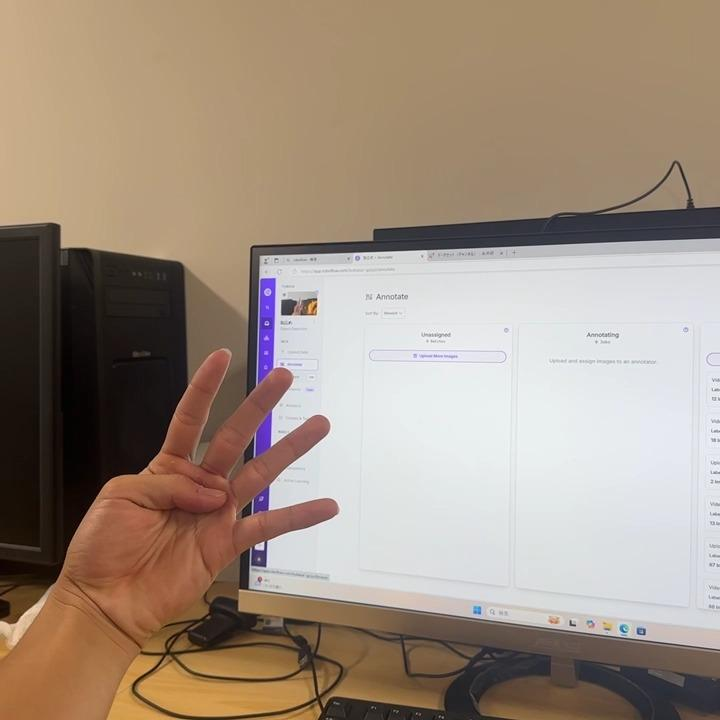without_gloves: (84, 318, 363, 642)
